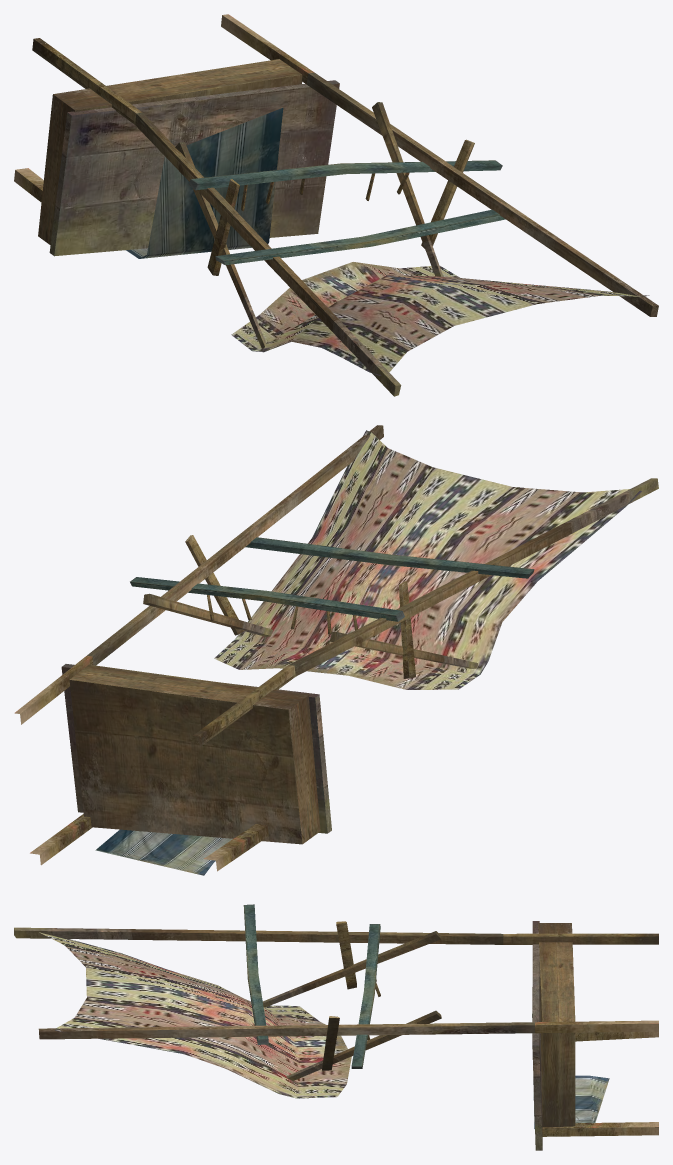
Rendered from prop_market_stands7.glb.
The picture shows the model from 3 angles, top to bottom: view 1: azimuth 30°, elevation 25°; view 2: azimuth 150°, elevation 25°; view 3: azimuth 270°, elevation 25°; orthographic projection. The views are drawn at different scales.
Size of the model in its own units: 72.29 by 39.67 by 151.
1 material, 1 textured.
